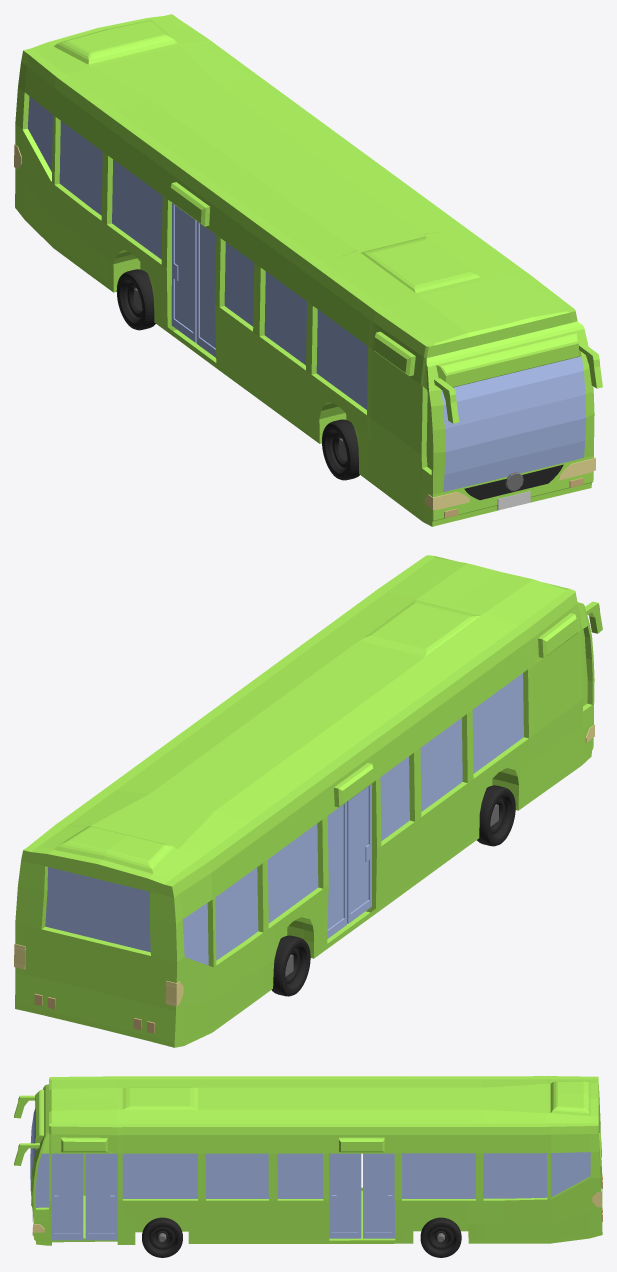
The model's file is City_BusA.fbx.
3 views of the same model, one above another, from view 1: azimuth 30°, elevation 25°; view 2: azimuth 150°, elevation 25°; view 3: azimuth 270°, elevation 25° (orthographic). The views are drawn at different scales.
Visible parts, largest first — view 1: Bus_Body, DoorPanel_D, DoorPanel_C, FrontWheels.002, FrontWheels.001, Grill, Mirrors, FrontUpperLights; view 2: Bus_Body, DoorPanel_C, DoorPanel_D, FrontWheels.002, FrontWheels.001, BackUpperLights; view 3: Bus_Body, DoorPanel_B, DoorPanel_A, DoorPanel_C, DoorPanel_D, FrontWheels.002, FrontWheels.001, Mirrors, FrontWheelAxelInt.001, FrontWheelAxelInt.002.
Boxes of the visible parts, <box> form: Bus_Body: <box>15,14,594,526</box>; DoorPanel_D: <box>171,203,196,342</box>; DoorPanel_C: <box>196,221,216,357</box>; FrontWheels.002: <box>116,269,155,330</box>; FrontWheels.001: <box>322,419,359,480</box>; Grill: <box>464,464,563,500</box>; Mirrors: <box>434,343,602,423</box>; FrontUpperLights: <box>424,457,595,509</box>; Bus_Body: <box>15,555,594,1047</box>; DoorPanel_C: <box>347,784,371,923</box>; DoorPanel_D: <box>327,802,346,938</box>; FrontWheels.002: <box>271,935,310,996</box>; FrontWheels.001: <box>477,785,515,846</box>; BackUpperLights: <box>14,943,183,1006</box>; Bus_Body: <box>30,1076,602,1245</box>; DoorPanel_B: <box>85,1153,117,1240</box>; DoorPanel_A: <box>51,1153,83,1240</box>; DoorPanel_C: <box>329,1153,361,1238</box>; DoorPanel_D: <box>363,1153,394,1238</box>; FrontWheels.002: <box>420,1217,461,1257</box>; FrontWheels.001: <box>142,1217,182,1257</box>; Mirrors: <box>14,1095,40,1165</box>; FrontWheelAxelInt.001: <box>149,1227,175,1249</box>; FrontWheelAxelInt.002: <box>428,1227,453,1249</box>.
Size of the model in its own units: 856 by 956 by 3713.
